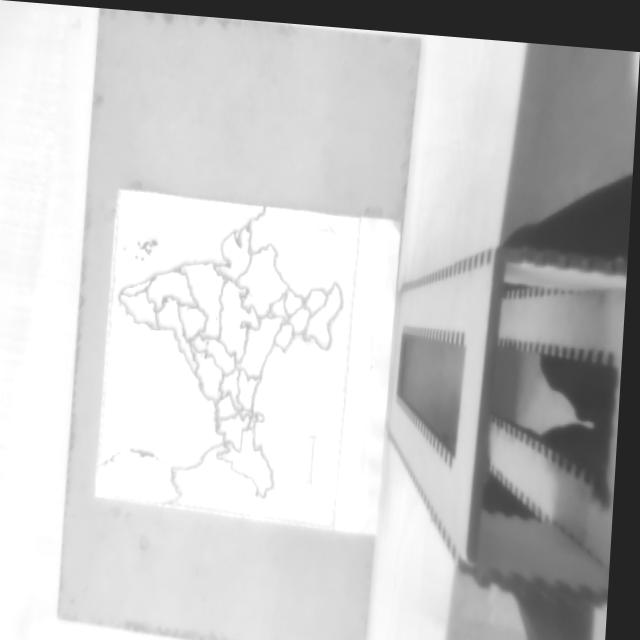map: (91, 189, 362, 530)
